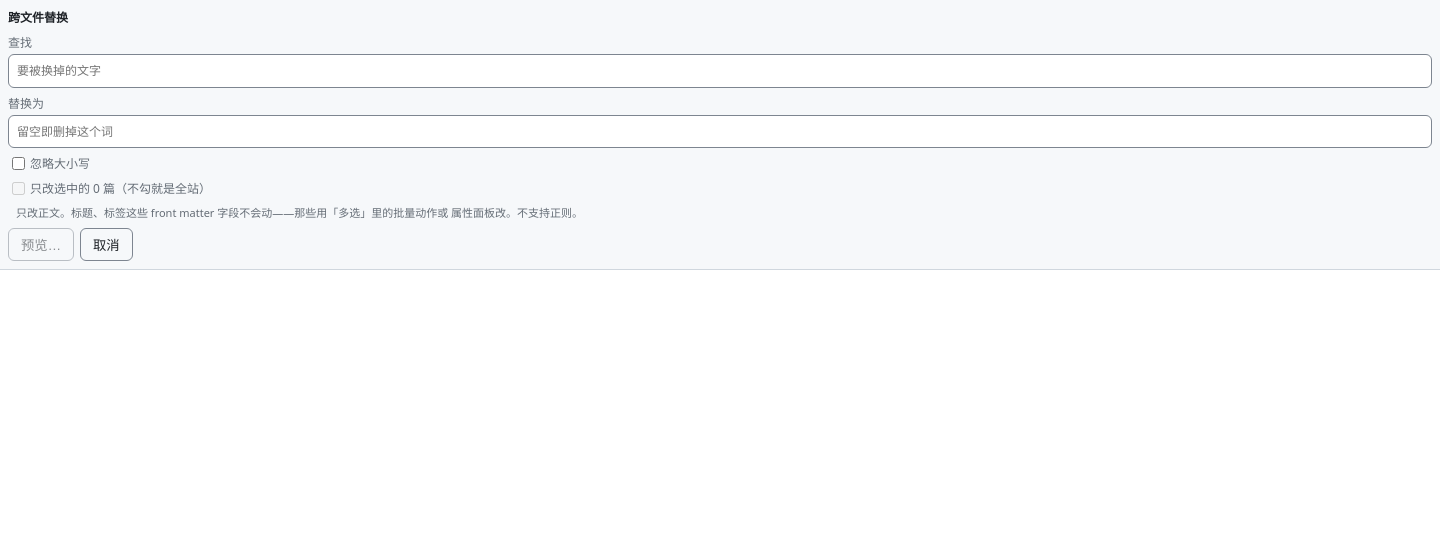
Scenario: ReplacePanel › 提交只干跑，落盘要再点一次；清单里要能看清哪几行怎么变
Type "旧称呼" into the field labelled "查找".
click(720, 71); type("旧称呼")  # box [8,54,1432,88]
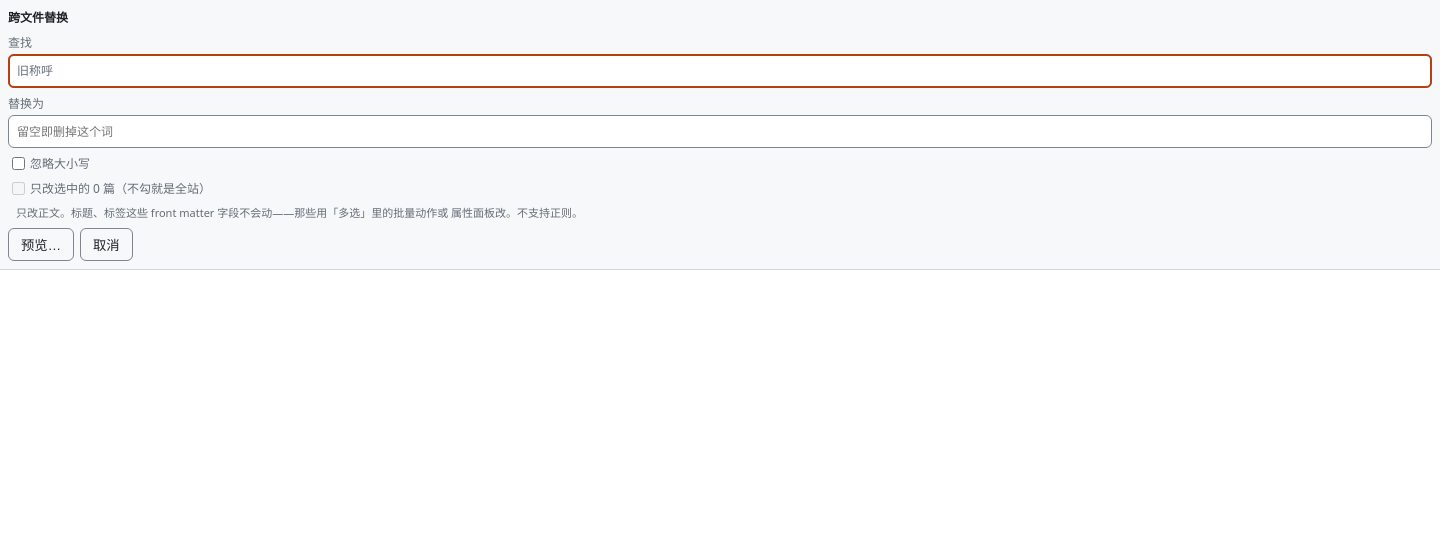
Submit the form, box [0,0,1439,270]
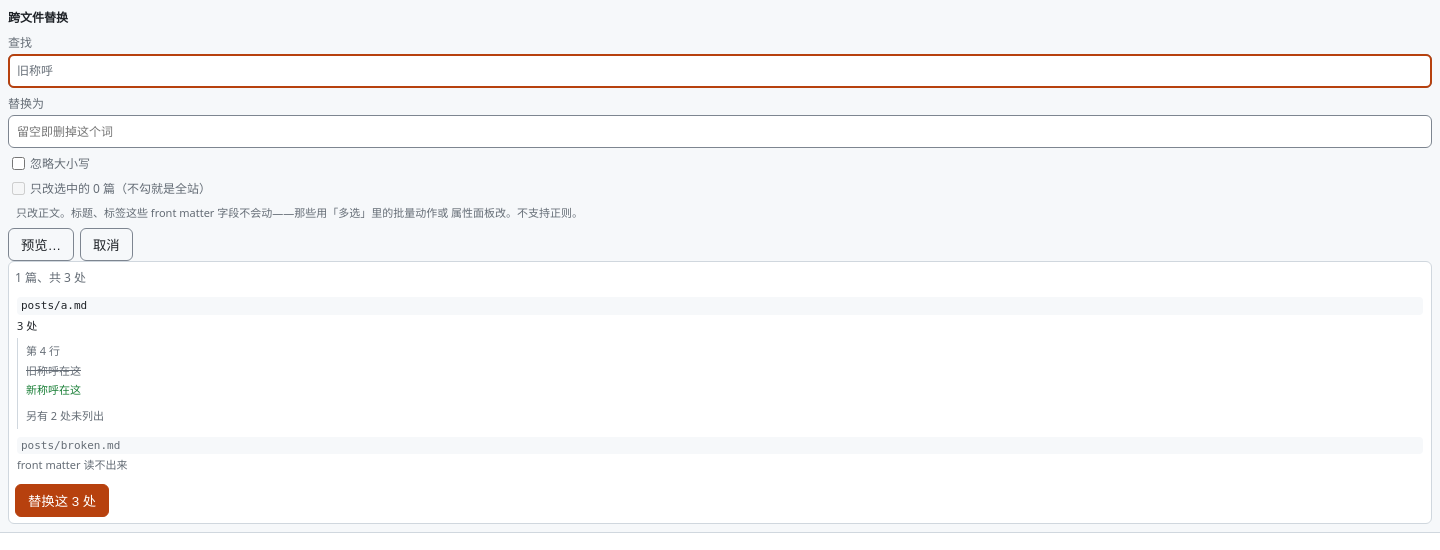
Expected: the element that starts with "1 篇、共 3 处" is shown, [15,269,86,286]
Expected: the element that starts with "1 篇、共 3 处" shows "posts/a.md", [21,299,87,312]
Expected: the element that starts with "1 篇、共 3 处" shows "第 4 行", [26,343,60,358]
